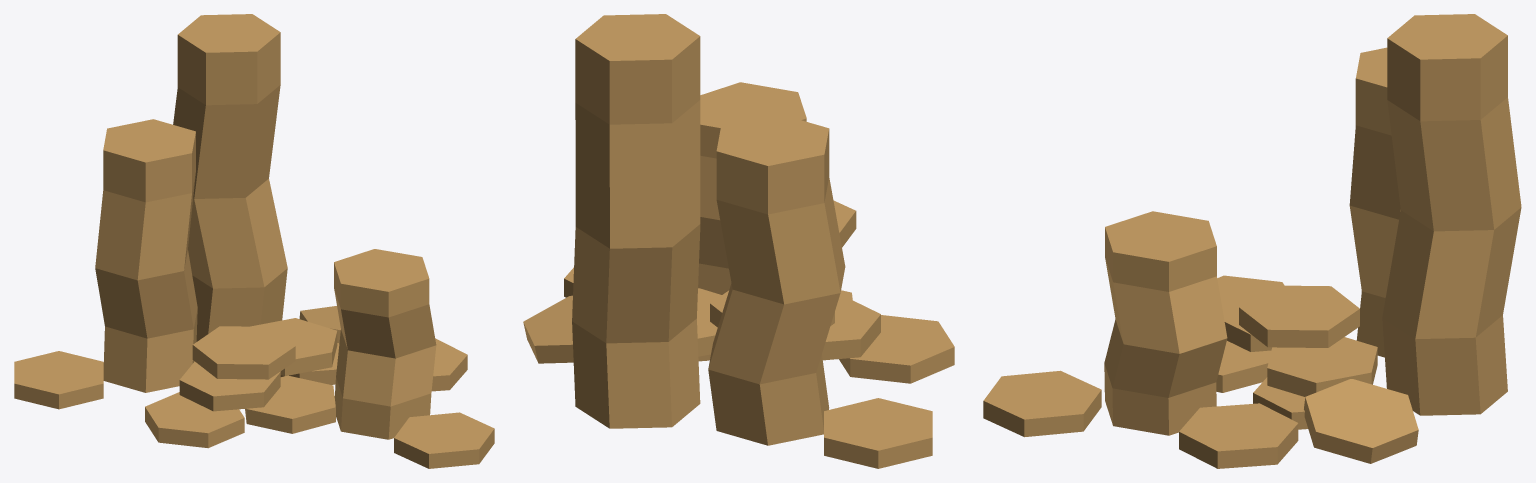
File: SM_Item_Coins_03.glb
3 views of the same model, side by side, from view 1: azimuth 30°, elevation 25°; view 2: azimuth 150°, elevation 25°; view 3: azimuth 270°, elevation 25° (orthographic). The views are drawn at different scales.
Visible parts, largest first — view 1: SM_Item_Coins_03; view 2: SM_Item_Coins_03; view 3: SM_Item_Coins_03.
Boxes of the visible parts, x1,y1,x2,y2 form: SM_Item_Coins_03: [14, 14, 494, 468]; SM_Item_Coins_03: [523, 14, 954, 468]; SM_Item_Coins_03: [983, 14, 1521, 468].
Size of the model in its own units: 0.00351 by 0.00275 by 0.00377.
Materials: 1 (1 with a texture image).
